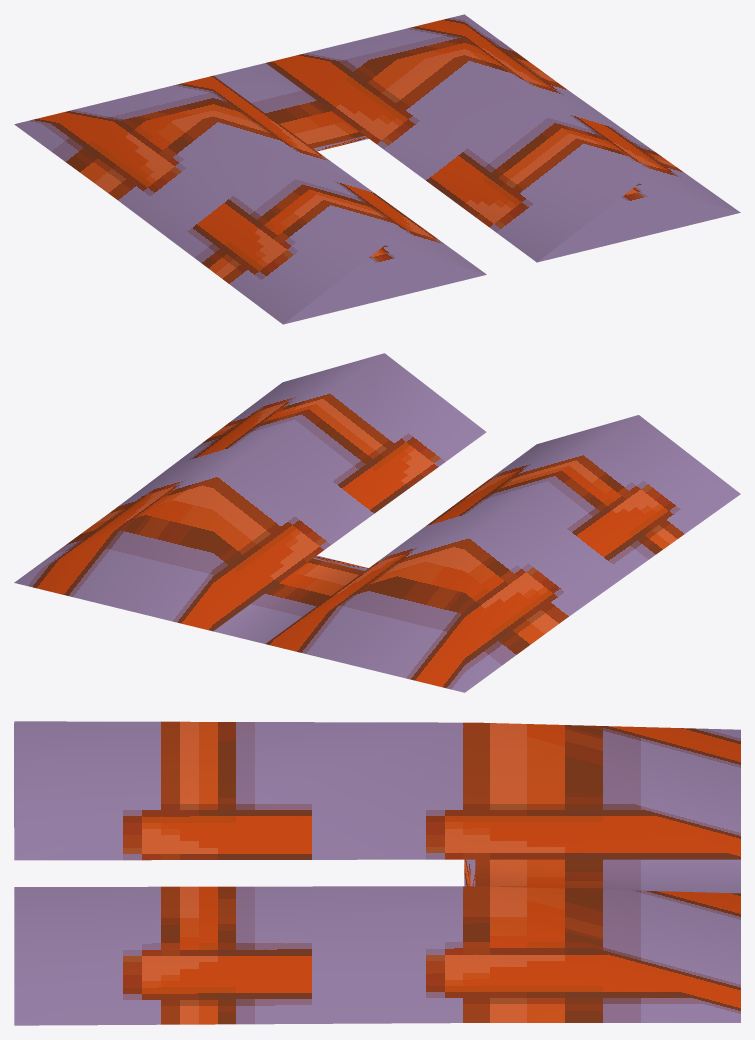
File: 2124pants000_c.gltf
3 views of the same model, one above another, from view 1: azimuth 30°, elevation 25°; view 2: azimuth 150°, elevation 25°; view 3: azimuth 270°, elevation 25° (orthographic). The views are drawn at different scales.
Parts seen in each view (by area): view 1: 2124pants000_c; view 2: 2124pants000_c; view 3: 2124pants000_c.
Part boxes in pixels (x1,y1,x2,y2): 2124pants000_c: (14, 14, 740, 324); 2124pants000_c: (14, 353, 740, 692); 2124pants000_c: (14, 721, 740, 1025).
Size of the model in its own units: 0.7793 by 0.0884 by 0.803.
Materials: 1 (1 with a texture image).
